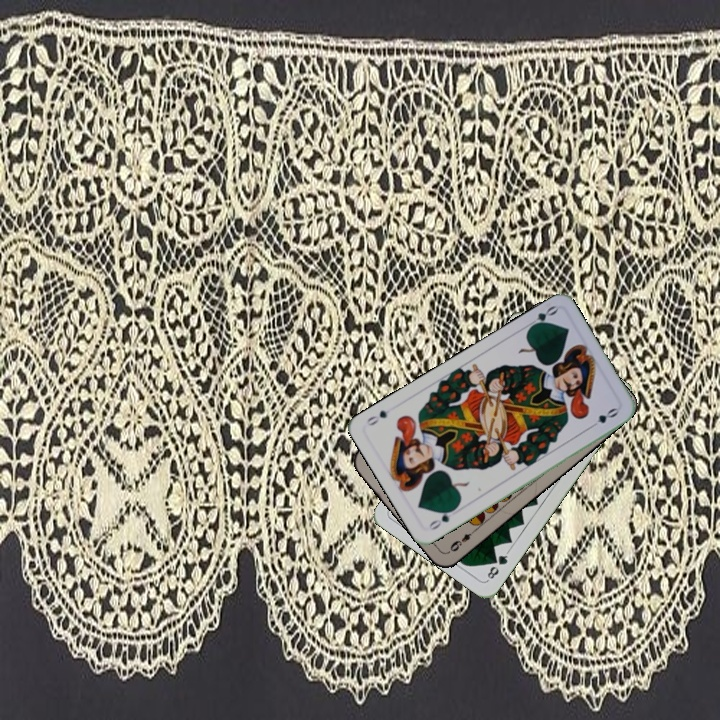E9: (444, 525, 479, 555)
G8: (483, 547, 511, 583)
GO: (522, 301, 560, 332), (425, 503, 459, 533)
